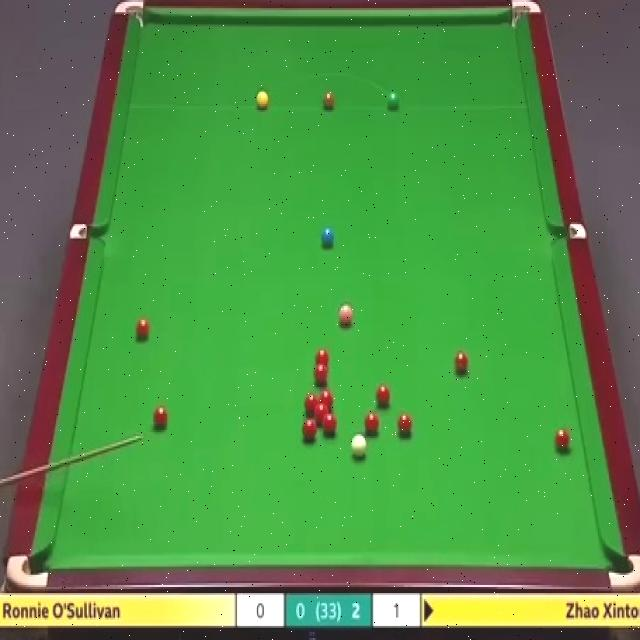blue-ball: (320, 224, 334, 250)
brown-ball: (322, 89, 335, 109)
green-ball: (387, 90, 400, 109)
pink-ball: (337, 304, 353, 328)
red-ball: (553, 426, 570, 452), (152, 406, 169, 430), (300, 419, 317, 442), (397, 411, 412, 437), (454, 349, 468, 376), (315, 402, 330, 427), (365, 411, 379, 437), (304, 394, 320, 415), (376, 384, 391, 406), (323, 414, 337, 437), (135, 319, 151, 339), (314, 349, 330, 368), (313, 363, 328, 383), (319, 389, 333, 409)
white-ball: (351, 434, 366, 458)
yellow-ball: (255, 89, 269, 109)
